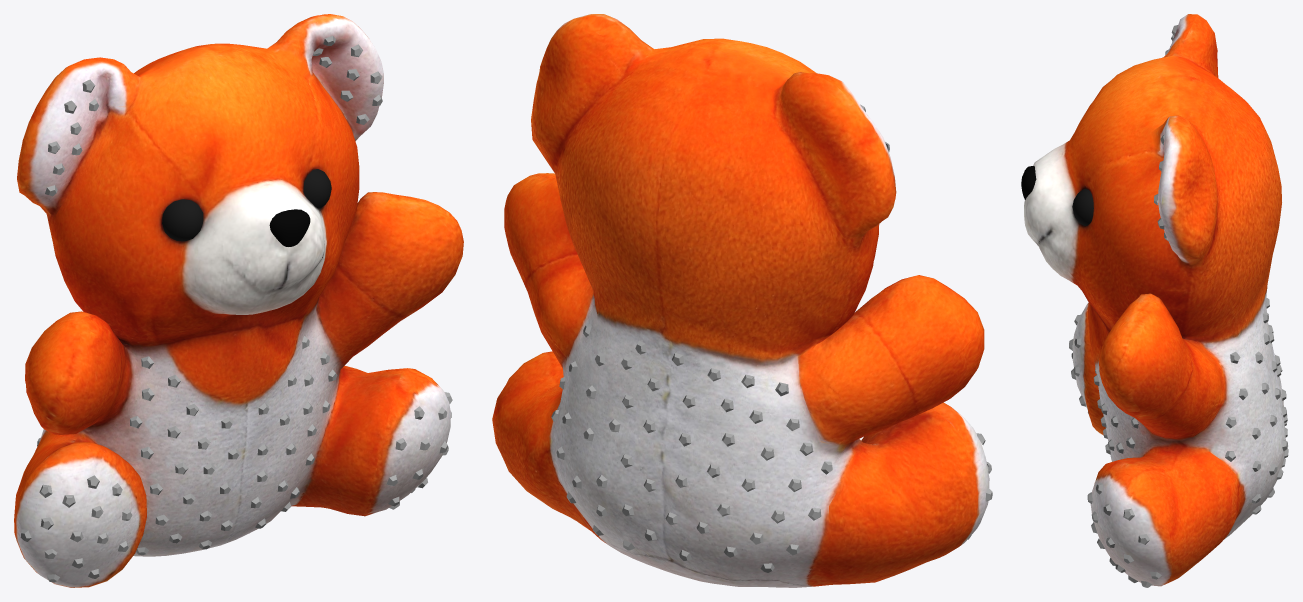
3 renders of one model, left to right at view 1: azimuth 30°, elevation 25°; view 2: azimuth 150°, elevation 25°; view 3: azimuth 270°, elevation 25°, orthographic. The views are drawn at different scales.
Parts seen in each view (by area): view 1: Plane, Cylinder.011, Cube.001, Cube.002, Cube; view 2: Plane, Cylinder.011; view 3: Plane, Cylinder.011, Cube, Cube.002.
Boxes of the visible parts, x1,y1,x2,y2 form: Plane: (14,14,463,587); Cylinder.011: (20,35,452,582); Cube.001: (162,199,203,241); Cube.002: (269,209,310,246); Cube: (303,169,331,208); Plane: (492,14,989,587); Cylinder.011: (551,104,992,572); Plane: (1024,14,1285,586); Cylinder.011: (1069,25,1288,587); Cube: (1072,188,1093,225); Cube.002: (1021,166,1036,199).
Size of the model in its own units: 5.35 by 5.64 by 3.03.
Materials: 4 (1 with a texture image).
